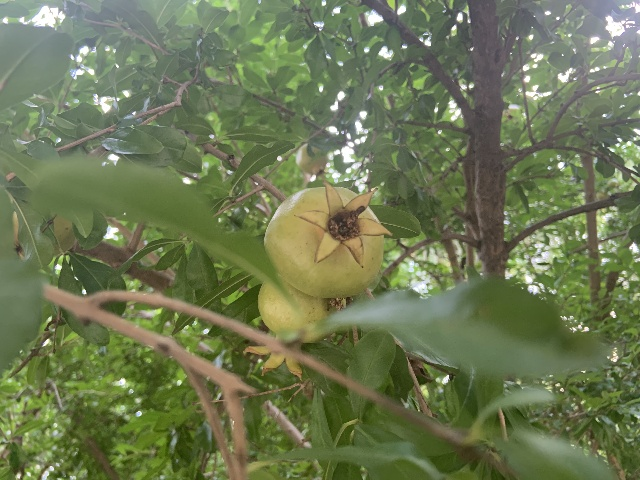mid-growth: (263, 180, 392, 298), (242, 272, 345, 380), (295, 143, 331, 180)
